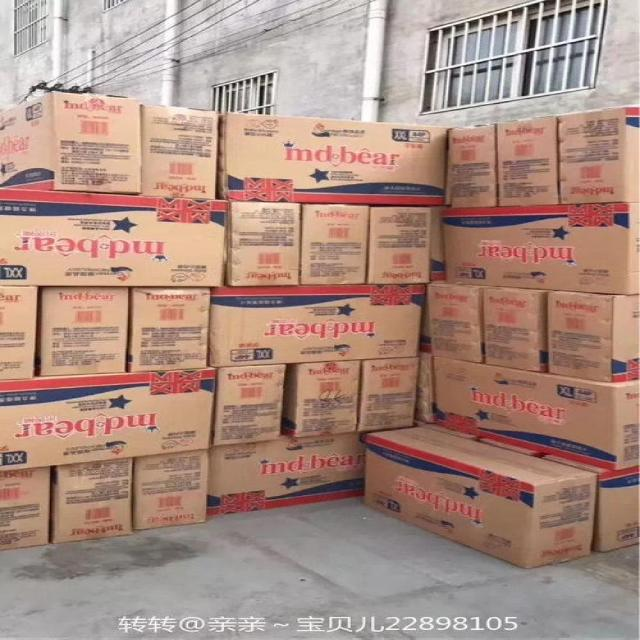box: (363, 426, 596, 568), (434, 356, 639, 471), (0, 365, 217, 471), (0, 188, 228, 287), (216, 113, 452, 205), (207, 426, 422, 516), (440, 202, 639, 295), (208, 284, 425, 367), (0, 92, 141, 195), (543, 454, 639, 552), (547, 290, 639, 382), (36, 286, 130, 375), (558, 106, 639, 204), (139, 104, 218, 199), (50, 456, 134, 543), (127, 286, 211, 372), (484, 286, 560, 372), (226, 200, 301, 286), (280, 360, 362, 437), (132, 448, 209, 529), (210, 363, 286, 445), (428, 283, 501, 363), (497, 115, 560, 206), (300, 202, 369, 285), (367, 206, 432, 284), (357, 357, 419, 431), (0, 465, 51, 550), (449, 124, 498, 207), (0, 285, 39, 380), (414, 350, 440, 422), (429, 205, 450, 280), (480, 438, 550, 458), (419, 423, 484, 442), (419, 285, 431, 354), (445, 130, 451, 204)
